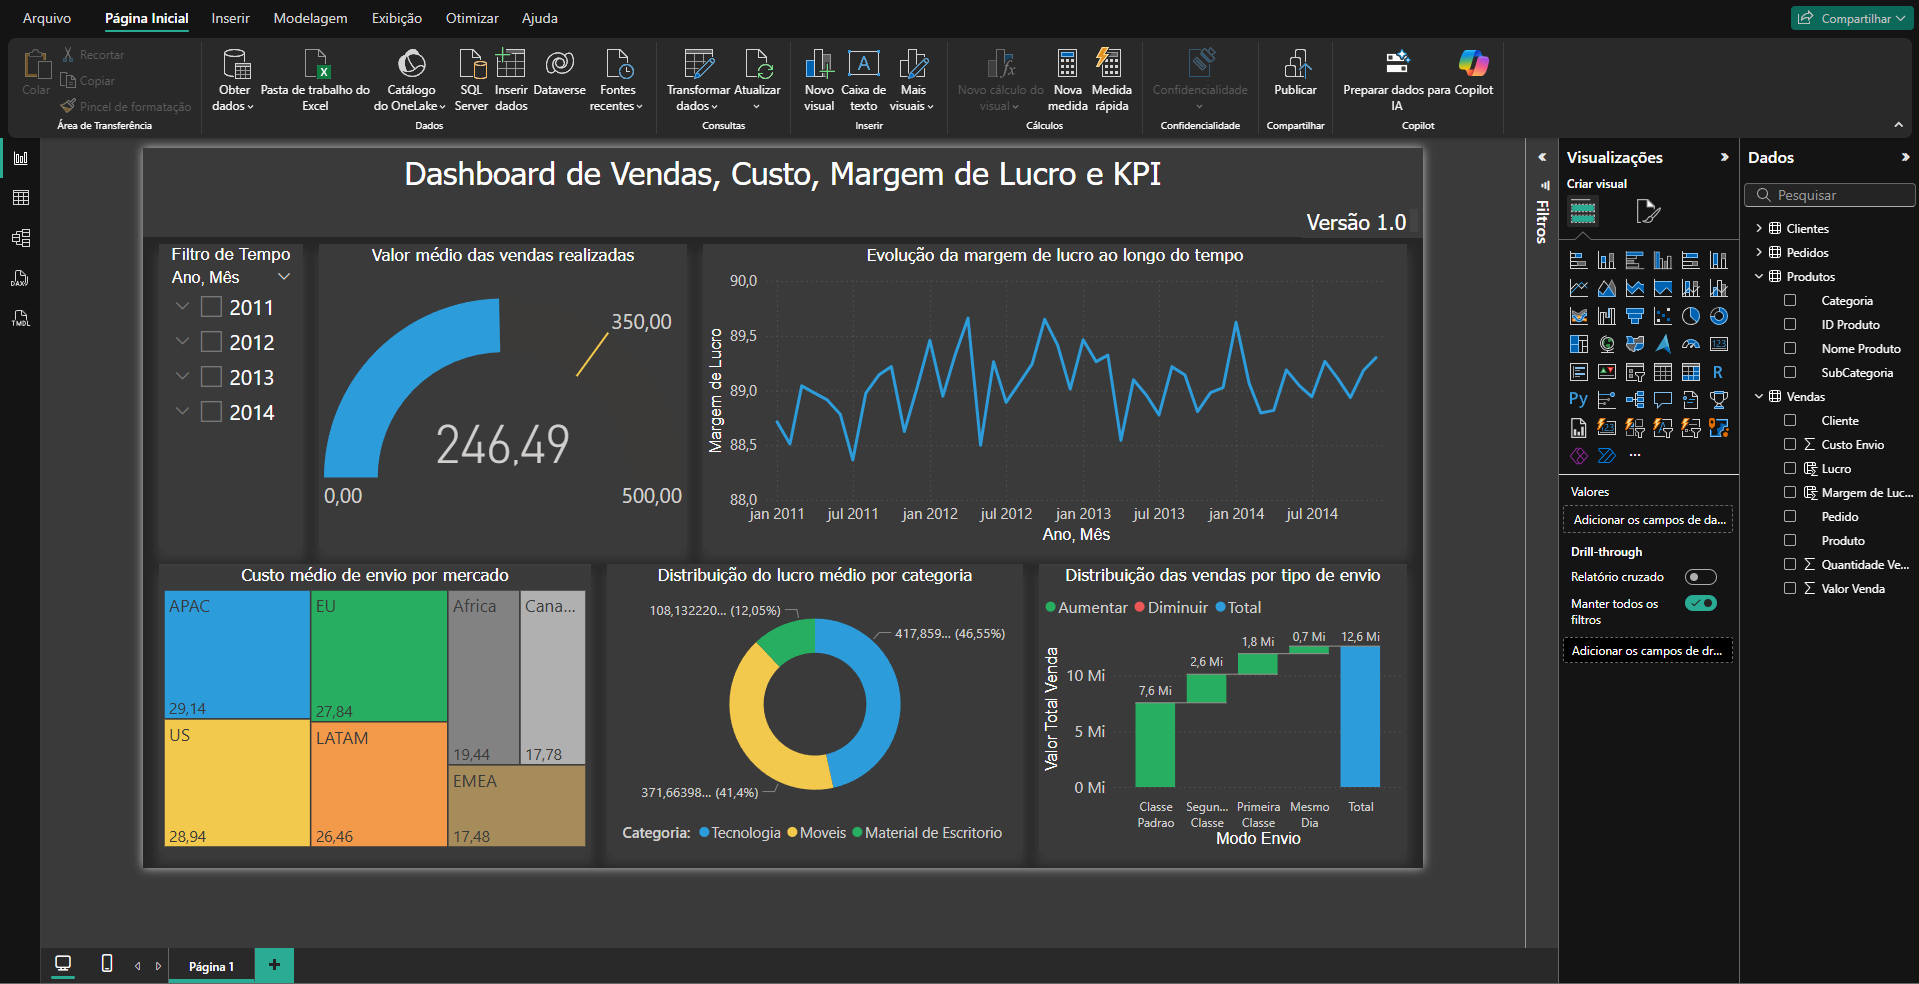

What the dashboard file says about the page in this screenshot:
{"tool":"powerbi","page":{"name":"Página 1","canvas":[1280,720],"ordinal":0},"visuals":[{"type":"treemap","title":"Custo médio de envio por mercado","fields":{"Group":["Clientes.Mercado"],"Values":["Avg(Vendas.Custo Envio)"]},"box":[16,416,432,288],"z":0},{"type":"waterfallChart","title":"Distribuição das vendas por tipo de envio","fields":{"Y":["Sum(Vendas.Valor Venda)"],"Category":["Pedidos.Modo Envio"]},"box":[896,416,368,288],"z":1000},{"type":"gauge","title":"Valor médio das vendas realizadas","fields":{"Y":["Avg(Vendas.Valor Venda)"]},"box":[176,96,368,304],"z":2000},{"type":"slicer","title":"Filtro de Tempo","fields":{"Values":["Pedidos.Data Pedido.Variation.Hierarquia de datas.Ano","Pedidos.Data Pedido.Variation.Hierarquia de datas.Mês"]},"box":[16,96,144,304],"z":3000},{"type":"lineChart","title":"Evolução da margem de lucro ao longo do tempo","fields":{"Category":["Pedidos.Data Pedido.Variation.Hierarquia de datas.Ano","Pedidos.Data Pedido.Variation.Hierarquia de datas.Mês"],"Y":["Avg(Vendas.Margem de Lucro)"]},"box":[560,96,704,304],"z":4000},{"type":"donutChart","title":"Distribuição do lucro médio por categoria","fields":{"Category":["Produtos.Categoria"],"Y":["Avg(Vendas.Lucro)"]},"box":[464,416,416,288],"z":5000},{"type":"textbox","box":[0,0,1280,89.5],"z":6000},{"type":"textbox","box":[1158.9,55.6,121.1,34.4],"z":7000}]}

Visuals, with their boxes on the page's 1280x720 design canvas (x1, y1, x2, y2). These are canvas units, not pixel positions in the 1919x984 screenshot, which may show the page scaled, cropped or inside an application window:
"Custo médio de envio por mercado" treemap: crop(16, 416, 448, 704)
"Distribuição das vendas por tipo de envio" waterfallChart: crop(896, 416, 1264, 704)
"Valor médio das vendas realizadas" gauge: crop(176, 96, 544, 400)
"Filtro de Tempo" slicer: crop(16, 96, 160, 400)
"Evolução da margem de lucro ao longo do tempo" lineChart: crop(560, 96, 1264, 400)
"Distribuição do lucro médio por categoria" donutChart: crop(464, 416, 880, 704)
textbox: crop(0, 0, 1280, 90)
textbox: crop(1159, 56, 1280, 90)
